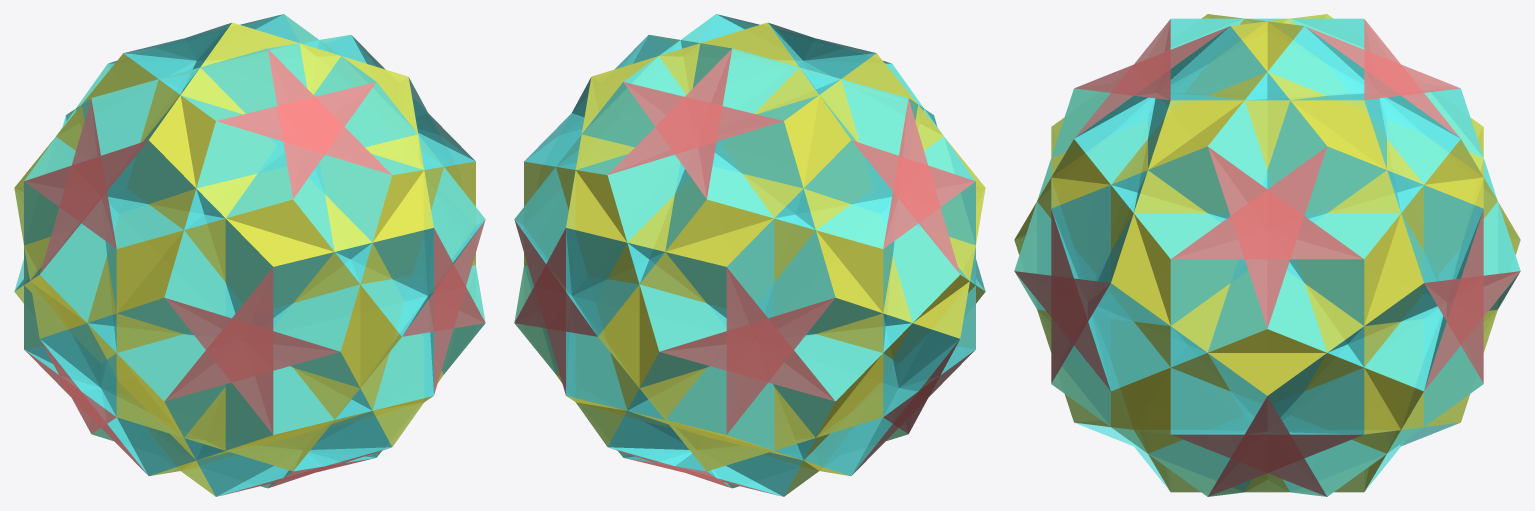
File: Icosidodecadodecahedron.obj
3 views of the same model, side by side, from view 1: azimuth 30°, elevation 25°; view 2: azimuth 150°, elevation 25°; view 3: azimuth 270°, elevation 25° (orthographic). The views are drawn at different scales.
Size of the model in its own units: 2.62 by 2.62 by 2.62.
